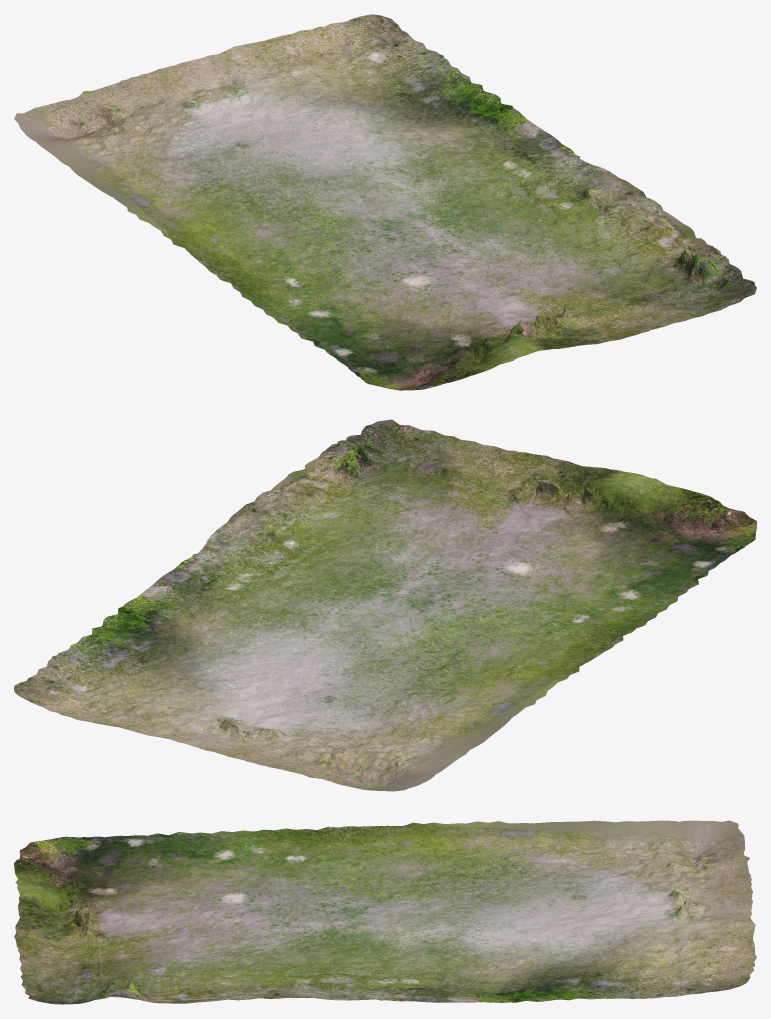
File: Fields.glb
3 renders of one model, top to bottom at view 1: azimuth 30°, elevation 25°; view 2: azimuth 150°, elevation 25°; view 3: azimuth 270°, elevation 25°, orthographic. The views are drawn at different scales.
Visible parts, largest first — view 1: field; view 2: field; view 3: field.
Part boxes in pixels (x1,y1,x2,y2): field: (14, 14, 756, 390); field: (14, 419, 756, 791); field: (14, 820, 756, 1004).
Size of the model in its own units: 171 by 13.32 by 285.
1 material, 1 textured.
